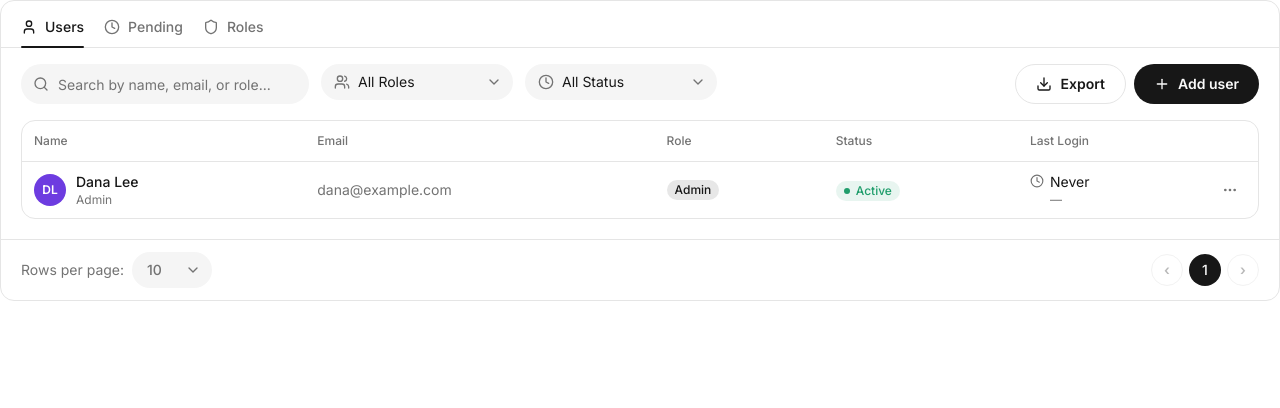
Scenario: Users & Roles — no users match the filter › says No users found, names the filter, and clears it back to everyone
Expected: the button "Dana Lee" is shown, top-left (76, 172), bottom-right (138, 192)
The only account is an Admin, so filtering by Lead matches nobody.
Click the button with aria-label "Role: All Roles": (417, 82) top-left (321, 64), bottom-right (513, 100)
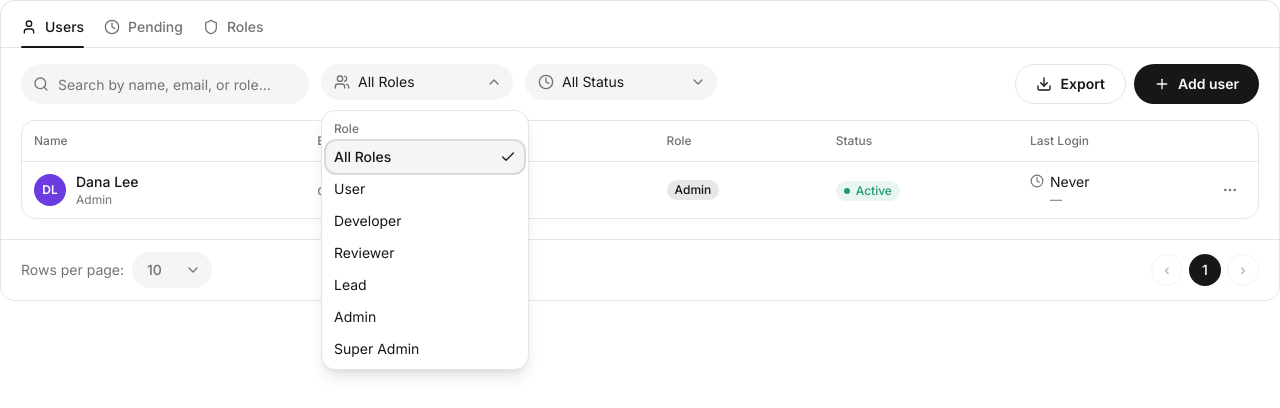
Click the option "Lead": (425, 285) top-left (326, 269), bottom-right (524, 301)
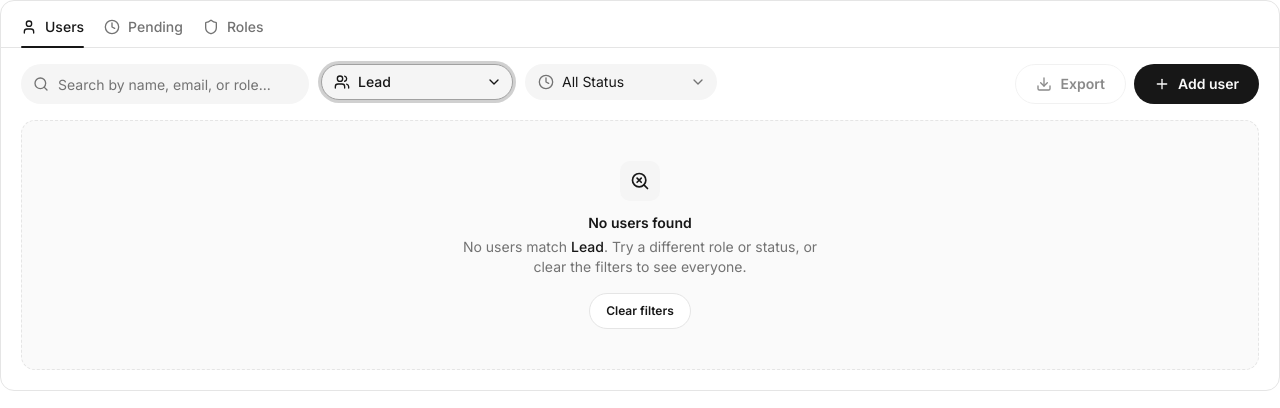
Now the heading "No users found" is shown, box top-left (588, 213), bottom-right (692, 233)
Now the message shows "No users match Lead.", box top-left (21, 120), bottom-right (1259, 370)
Now the table is gone
Click the button "Clear filters": (640, 311) top-left (589, 293), bottom-right (691, 329)
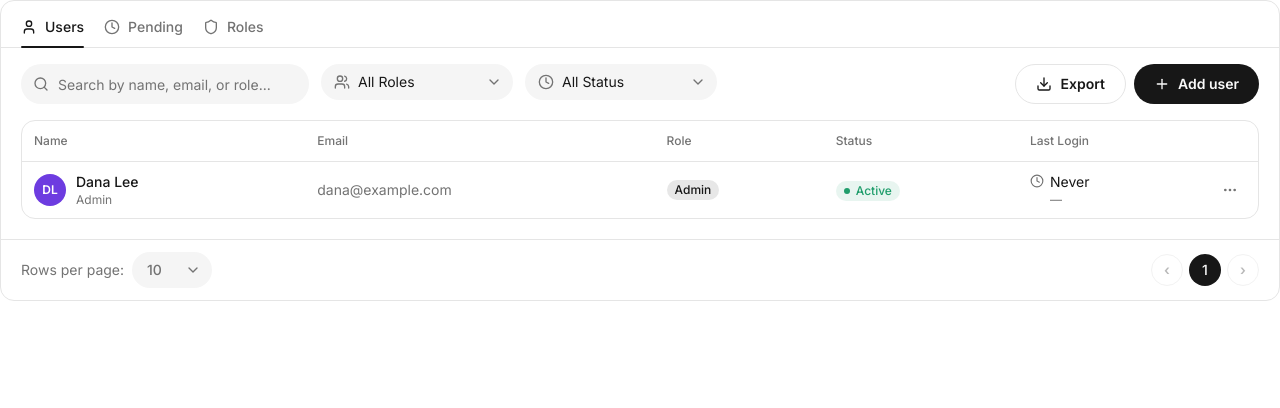
Now the button "Dana Lee" is shown, box top-left (76, 172), bottom-right (138, 192)
Now the heading "No users found" is gone
Now the button with aria-label "Role: All Roles" is shown, box top-left (321, 64), bottom-right (513, 100)
